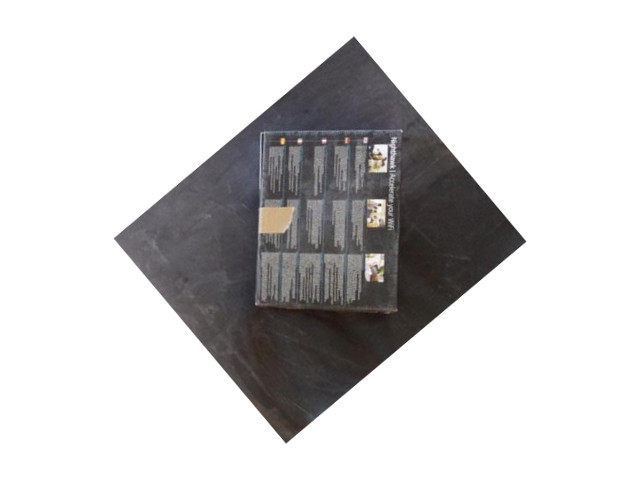cardboard: (256, 127, 398, 313)
